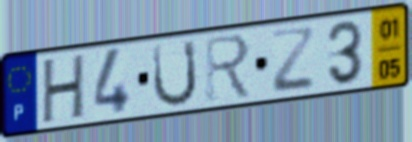3: (325, 18, 365, 88)
4: (91, 46, 133, 121)
H: (40, 51, 88, 127)
R: (203, 31, 254, 104)
U: (151, 37, 199, 110)
Z: (269, 26, 317, 96)
